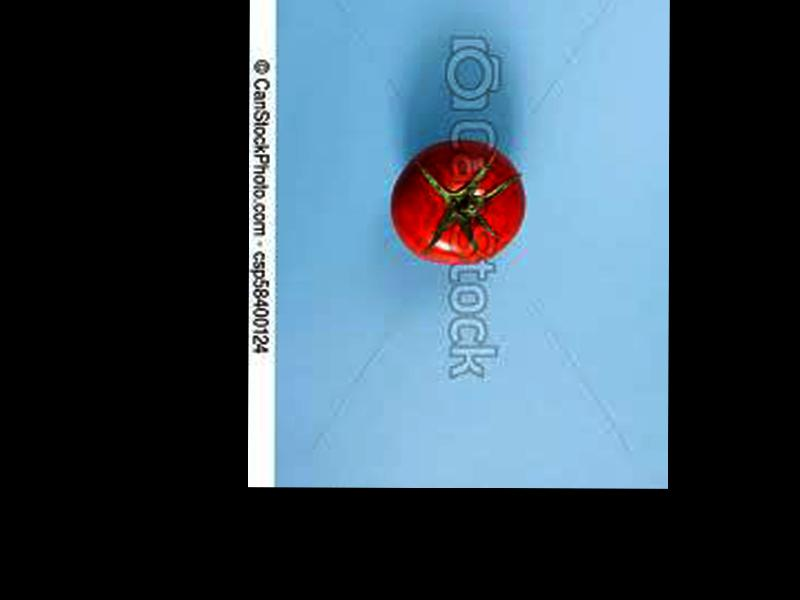Tomato: (388, 142, 524, 263)
